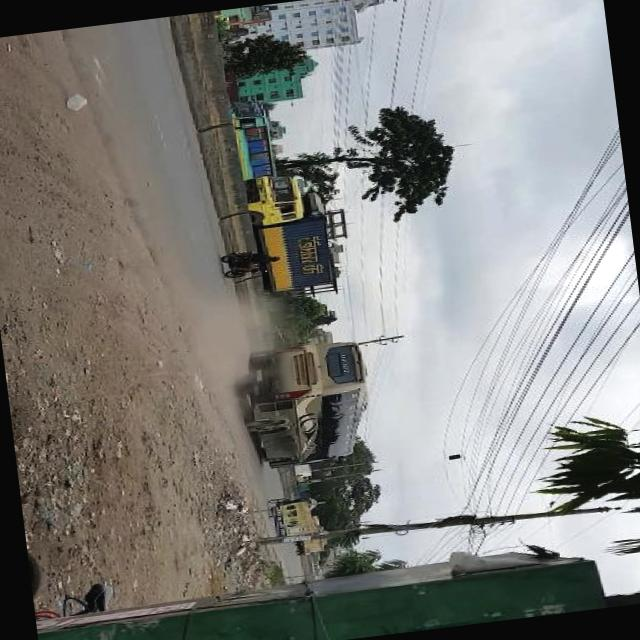bus: (239, 340, 376, 472)
motorcycle: (220, 247, 278, 280), (270, 494, 320, 512)
truck: (244, 170, 337, 294)
